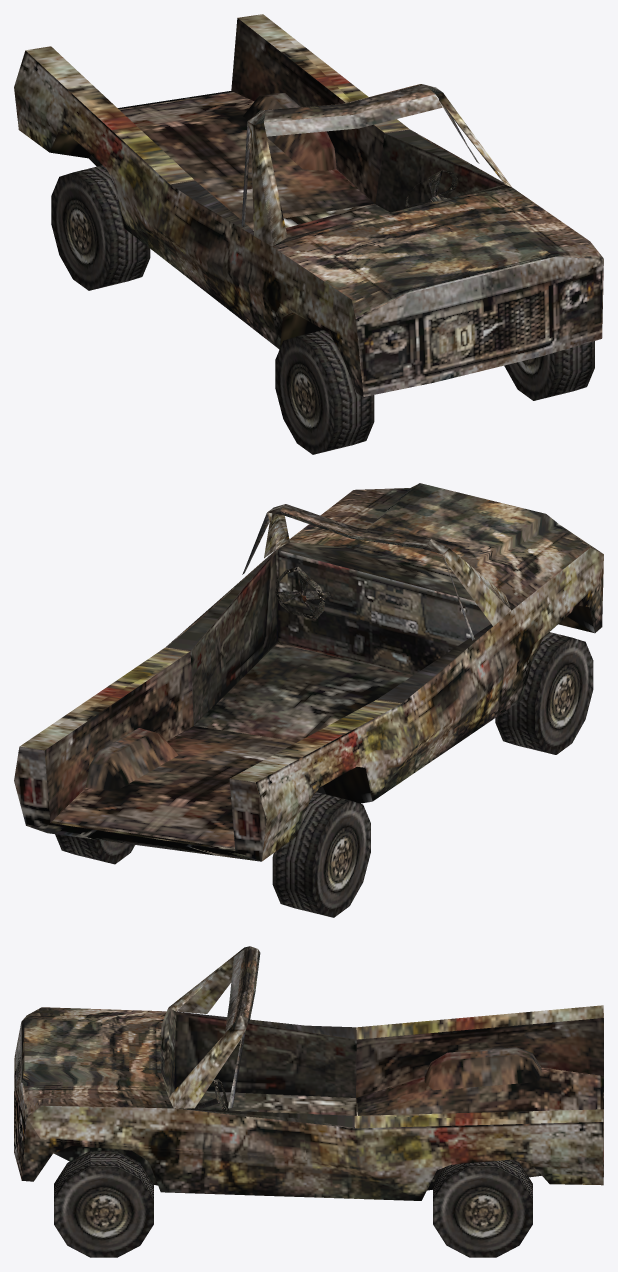
File: etek45x.glb
The picture shows the model from 3 angles, top to bottom: view 1: azimuth 30°, elevation 25°; view 2: azimuth 150°, elevation 25°; view 3: azimuth 270°, elevation 25°; orthographic projection. The views are drawn at different scales.
Visible parts, largest first — view 1: _etek45x; view 2: _etek45x; view 3: _etek45x.
Part boxes in pixels (bbox=[...]): _etek45x: bbox=[14, 14, 603, 454]; _etek45x: bbox=[14, 483, 603, 917]; _etek45x: bbox=[14, 946, 603, 1257].
Size of the model in its own units: 2.4 by 2.33 by 5.56.
Materials: 2 (2 with a texture image).
